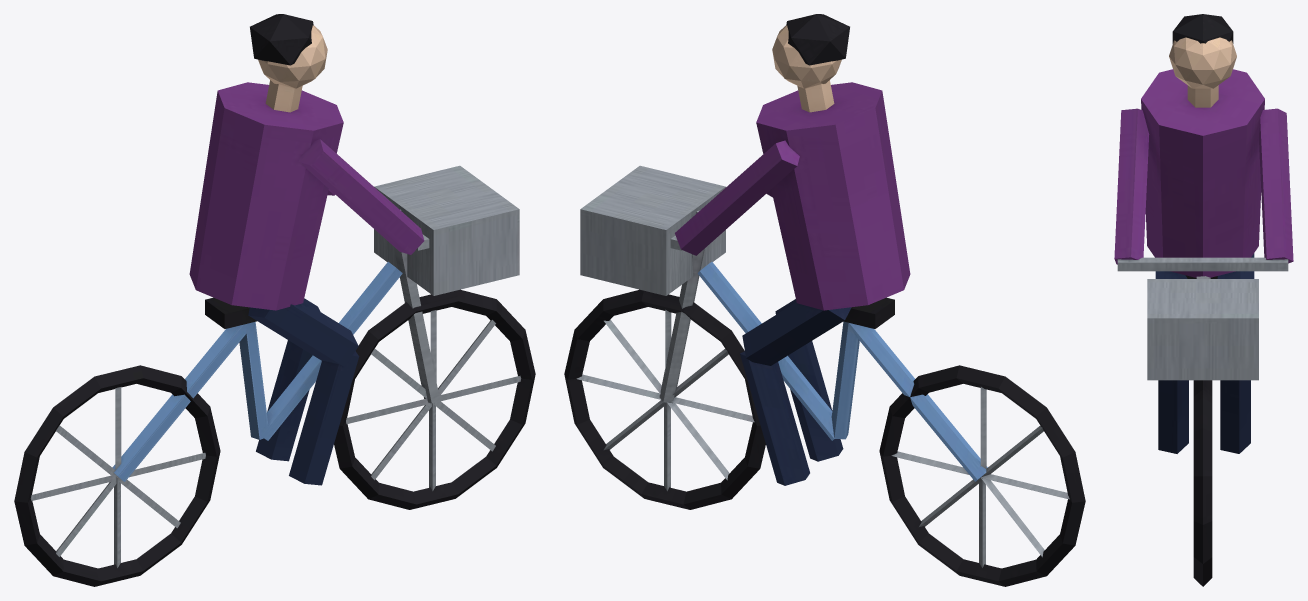
Rendered from mamachari_tex.glb.
3 renders of one model, left to right at view 1: azimuth 30°, elevation 25°; view 2: azimuth 150°, elevation 25°; view 3: azimuth 270°, elevation 25°, orthographic. The views are drawn at different scales.
Parts seen in each view (by area): view 1: mamachari; view 2: mamachari; view 3: mamachari.
Boxes of the visible parts, left/top/right/bottom form: mamachari: left=14, top=14, right=535, bottom=586; mamachari: left=564, top=14, right=1085, bottom=586; mamachari: left=1114, top=14, right=1293, bottom=586.
Bounding box in the file's own units: 1.82 × 1.76 × 0.5771.
Materials: 7 (7 with a texture image).
